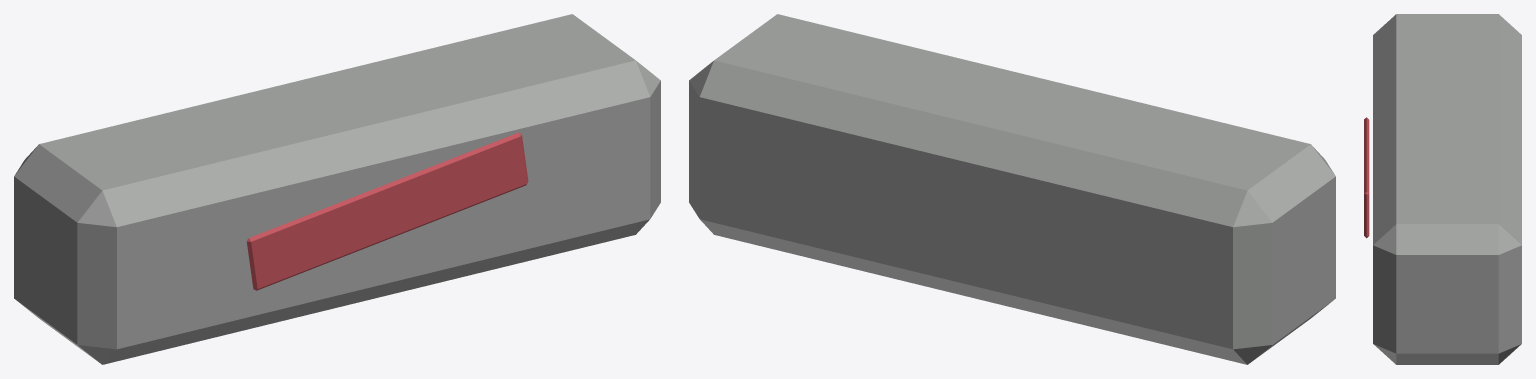
File: la-concreteroadblock.glb
3 renders of one model, left to right at view 1: azimuth 30°, elevation 25°; view 2: azimuth 150°, elevation 25°; view 3: azimuth 270°, elevation 25°, orthographic. The views are drawn at different scales.
Visible parts, largest first — view 1: Roadblock_Body, Roadblock_Stripe; view 2: Roadblock_Body; view 3: Roadblock_Body, Roadblock_Stripe.
Part boxes in pixels (x1,y1,x2,y2): Roadblock_Body: [14, 14, 660, 364]; Roadblock_Stripe: [247, 132, 528, 290]; Roadblock_Body: [689, 14, 1335, 364]; Roadblock_Body: [1373, 14, 1521, 364]; Roadblock_Stripe: [1364, 117, 1369, 238].
Bounding box in the file's own units: 4.2 × 1.2 × 1.22.
